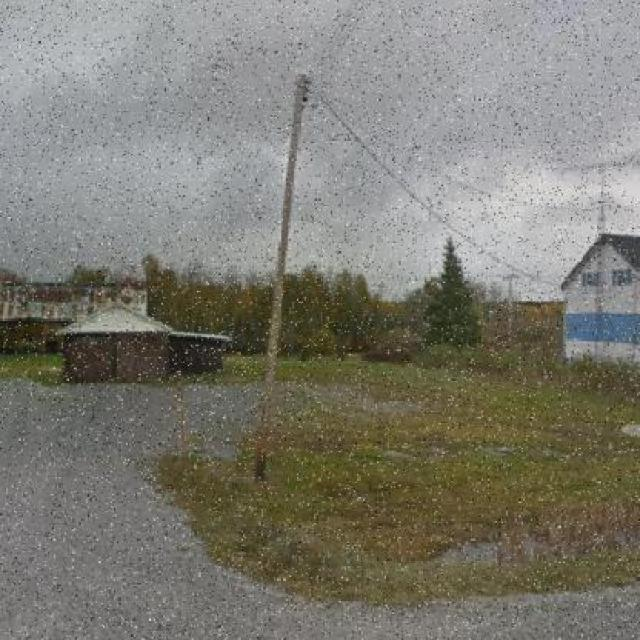pole: (208, 34, 386, 523)
